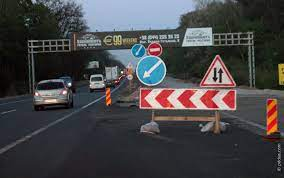1.19.1: (197, 52, 237, 87)
1.31.2: (136, 86, 237, 109)
